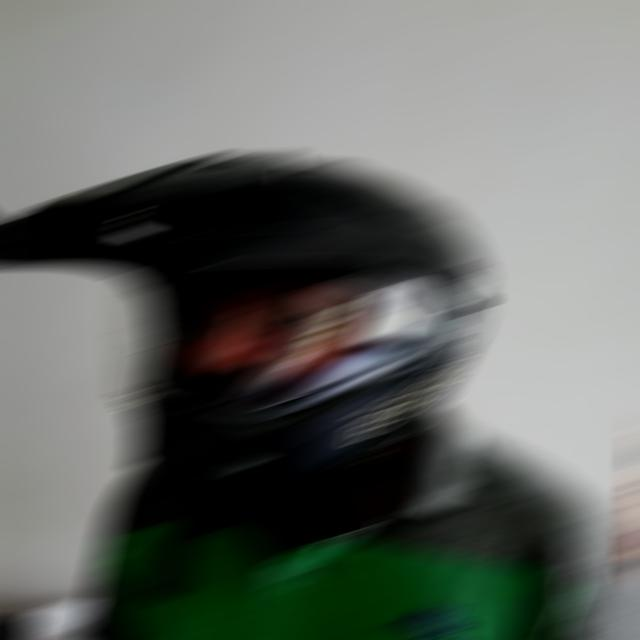With Helmet: (0, 154, 490, 533)
